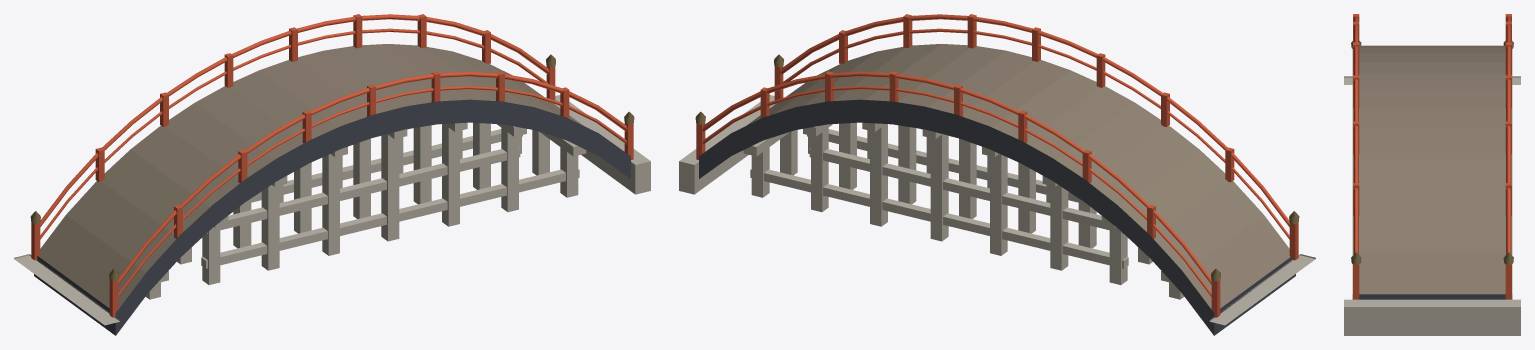
Rendered from osaka-sumiyoshi-sorihashi.glb.
The picture shows the model from 3 angles, left to right: view 1: azimuth 30°, elevation 25°; view 2: azimuth 150°, elevation 25°; view 3: azimuth 270°, elevation 25°; orthographic projection. The views are drawn at different scales.
Visible parts, largest first — view 1: Sorihashi, Sumiyoshi Taisha; view 2: Sorihashi, Sumiyoshi Taisha; view 3: Sorihashi, Sumiyoshi Taisha.
Part boxes in pixels (x1=…): Sorihashi, Sumiyoshi Taisha: x1=14, y1=14, x2=650, y2=335; Sorihashi, Sumiyoshi Taisha: x1=679, y1=14, x2=1315, y2=335; Sorihashi, Sumiyoshi Taisha: x1=1344, y1=14, x2=1520, y2=335.
Size of the model in its own units: 21.2 by 6.88 by 6.1.
